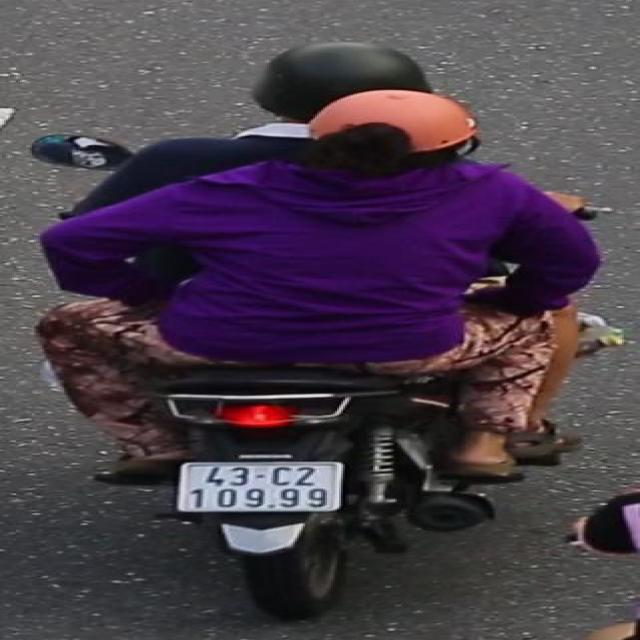LP: (173, 457, 353, 518)
helmet: (246, 38, 438, 118)
